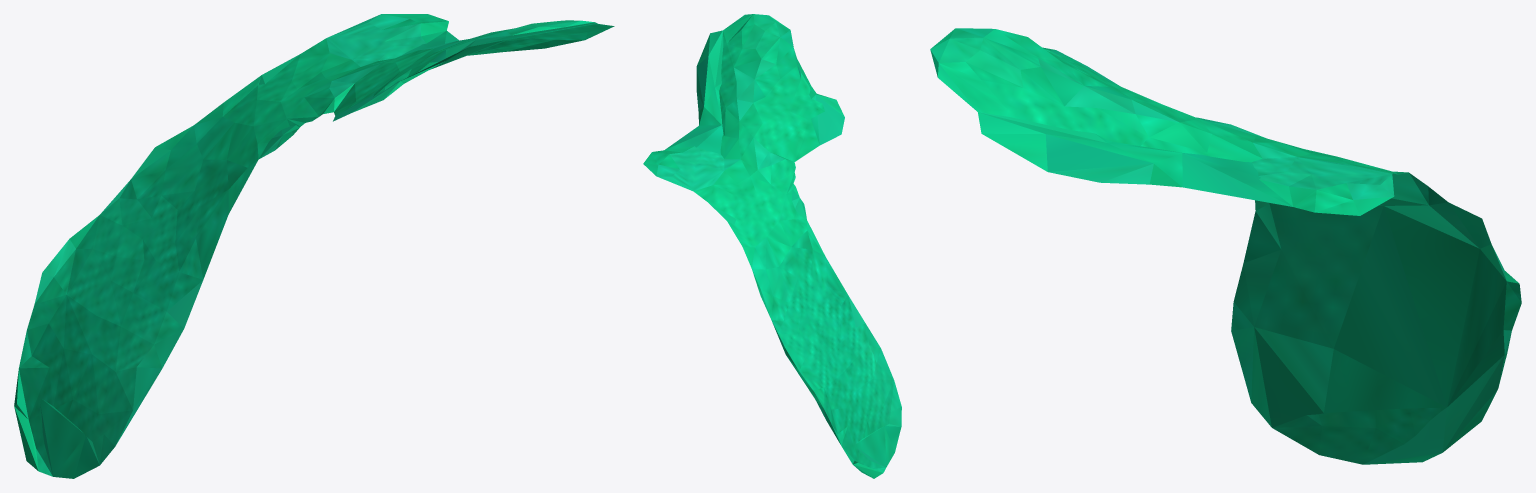
The model's file is Green_Floor_Paper.fbx.
3 renders of one model, left to right at view 1: azimuth 30°, elevation 25°; view 2: azimuth 150°, elevation 25°; view 3: azimuth 270°, elevation 25°, orthographic. The views are drawn at different scales.
Parts seen in each view (by area): view 1: Default; view 2: Default; view 3: Default.
Part boxes in pixels (left/top/right/bottom): Default: left=14, top=14, right=614, bottom=478; Default: left=643, top=14, right=901, bottom=478; Default: left=930, top=28, right=1521, bottom=464.
Bounding box in the file's own units: 27.3 × 30.18 × 25.43.
Materials: 1 (1 with a texture image).
